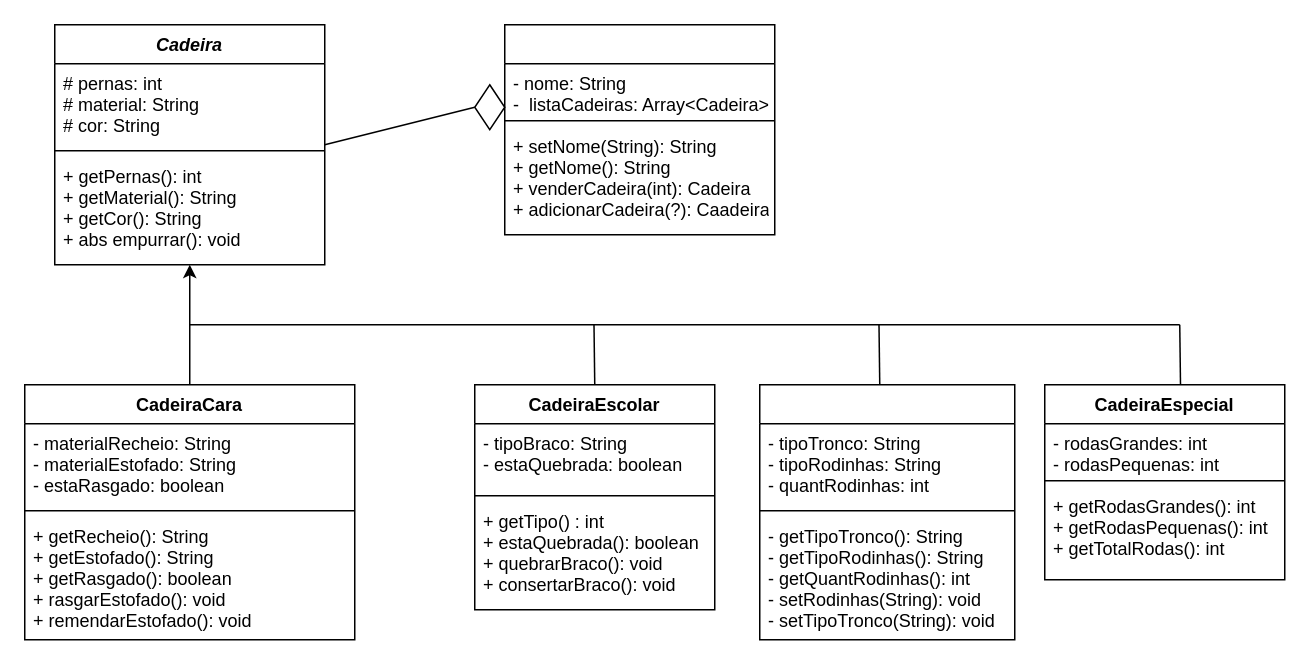
The diagram is 1310 pixels wide and 665 high, and some of its shapes have lost their labels. The box of each missing label's shape, as (x1, y1, x2, y2) in pixels:
CadeiraModerna: (758, 383, 1015, 640)
Loja: (503, 23, 775, 235)
